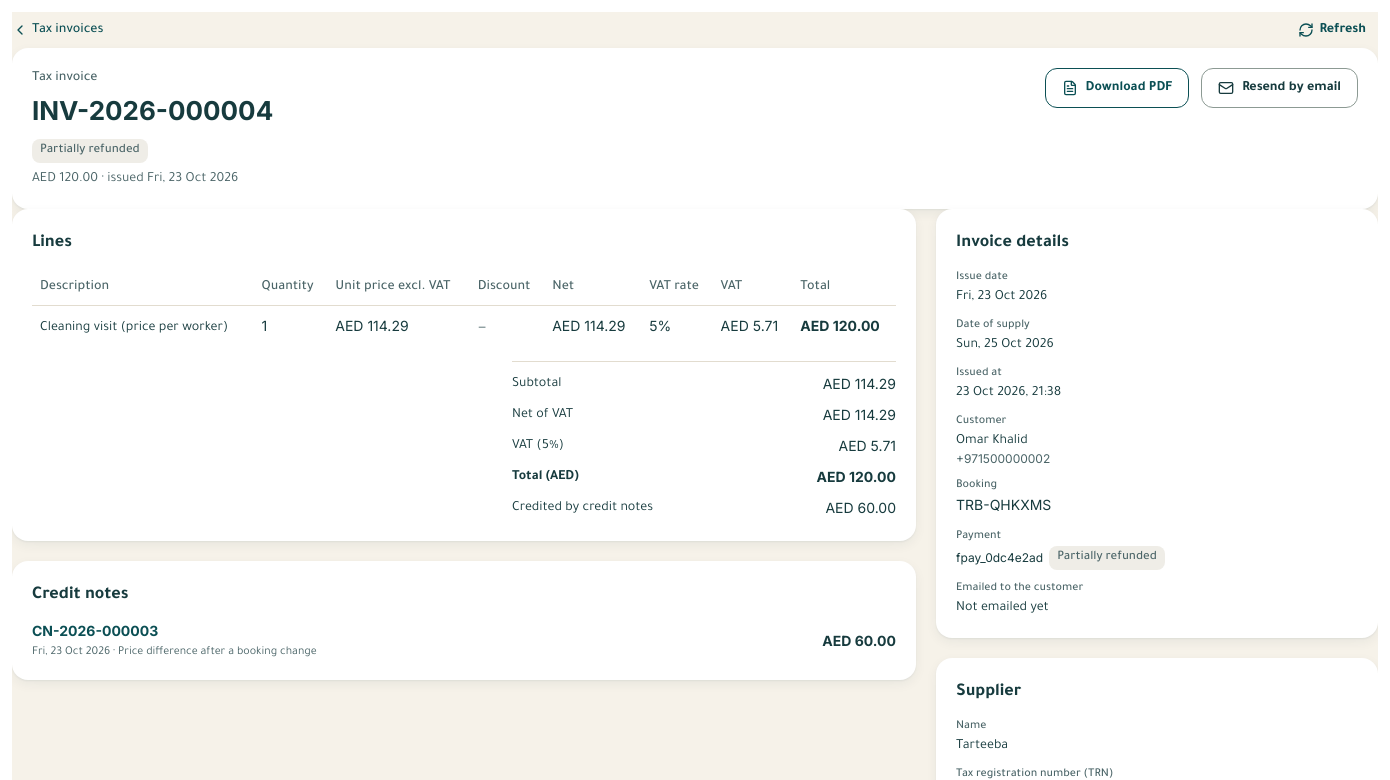
it: InvoiceDetailScreen › resends the invoice by e-mail with invoices.manage, and explains a missing address
Click the button with aria-label "Resend by email: invoice INV-2026-000004". click: click(1280, 88)
box: x1=1201 y1=68 x2=1358 y2=108
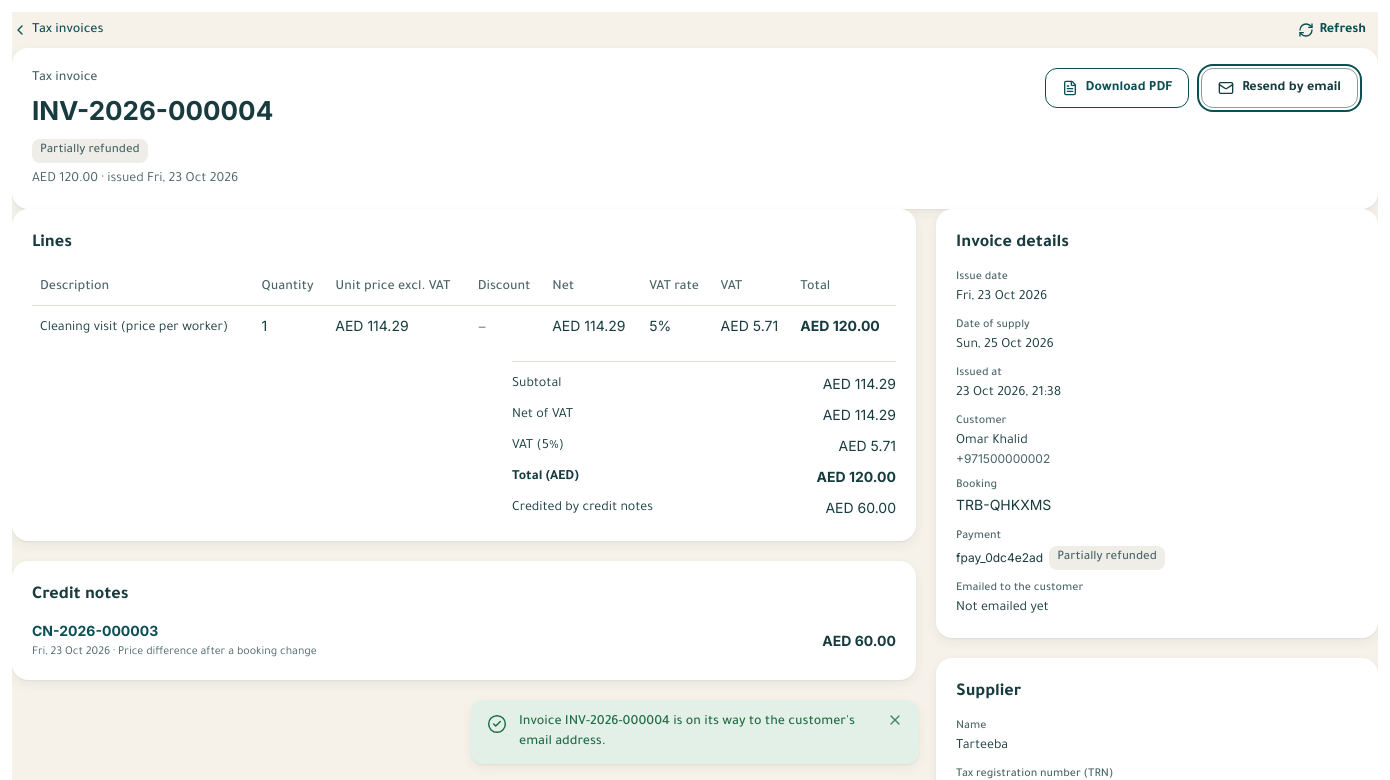
expect the text "Invoice INV-2026-000004 is on its way to the customer's email address." is shown: met, box x1=519 y1=712 x2=875 y2=752
Click the button with aria-label "Resend by email: invoice INV-2026-000004". click: click(1280, 88)
box: x1=1201 y1=68 x2=1358 y2=108
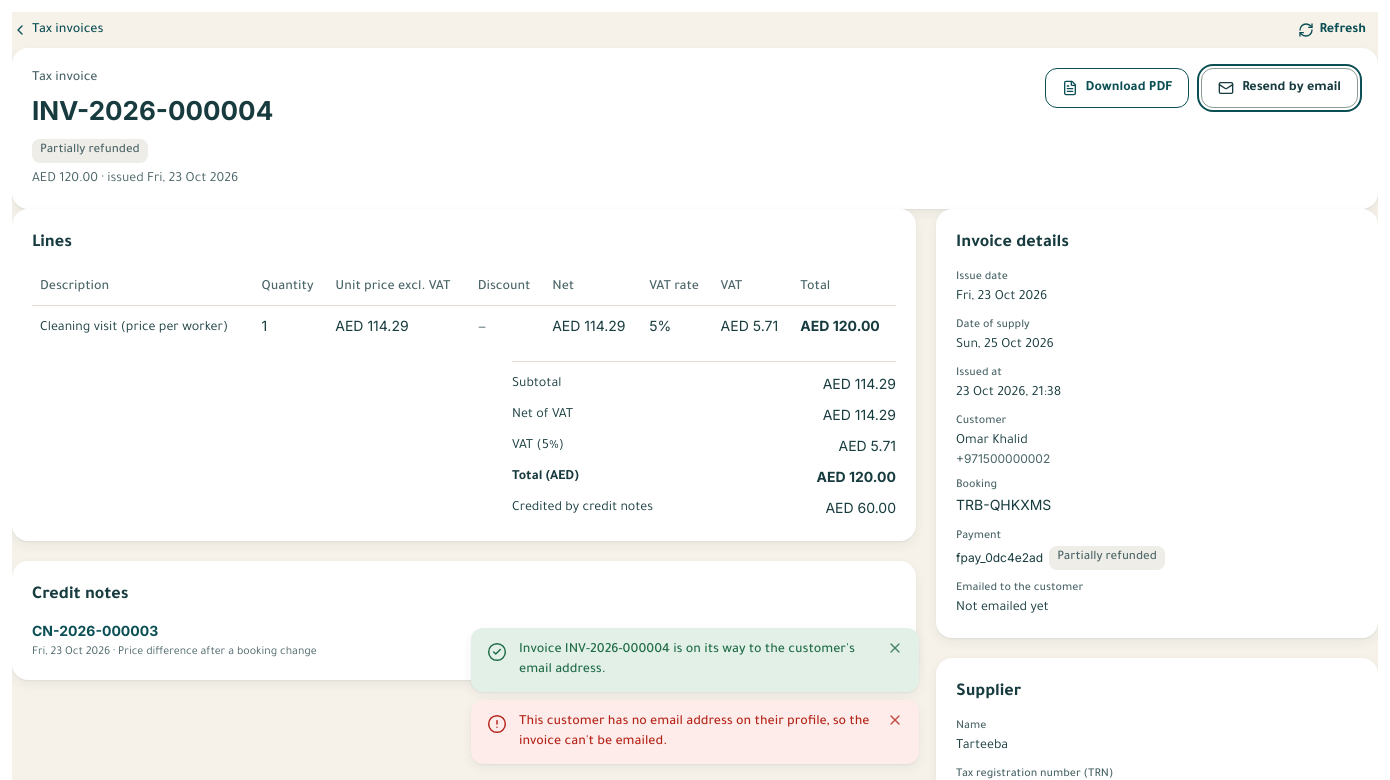
expect the text "This customer has no email address on their profile, so the invoice can't be emailed." is shown: met, box x1=519 y1=715 x2=870 y2=749
